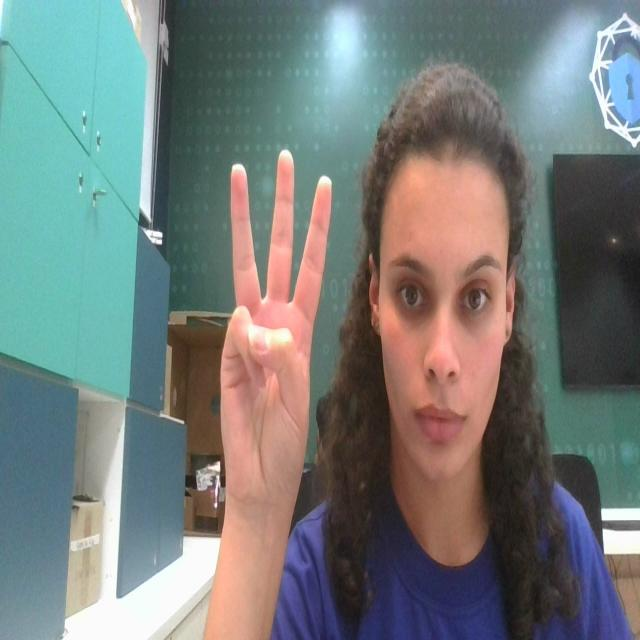W: (214, 133, 340, 551)
